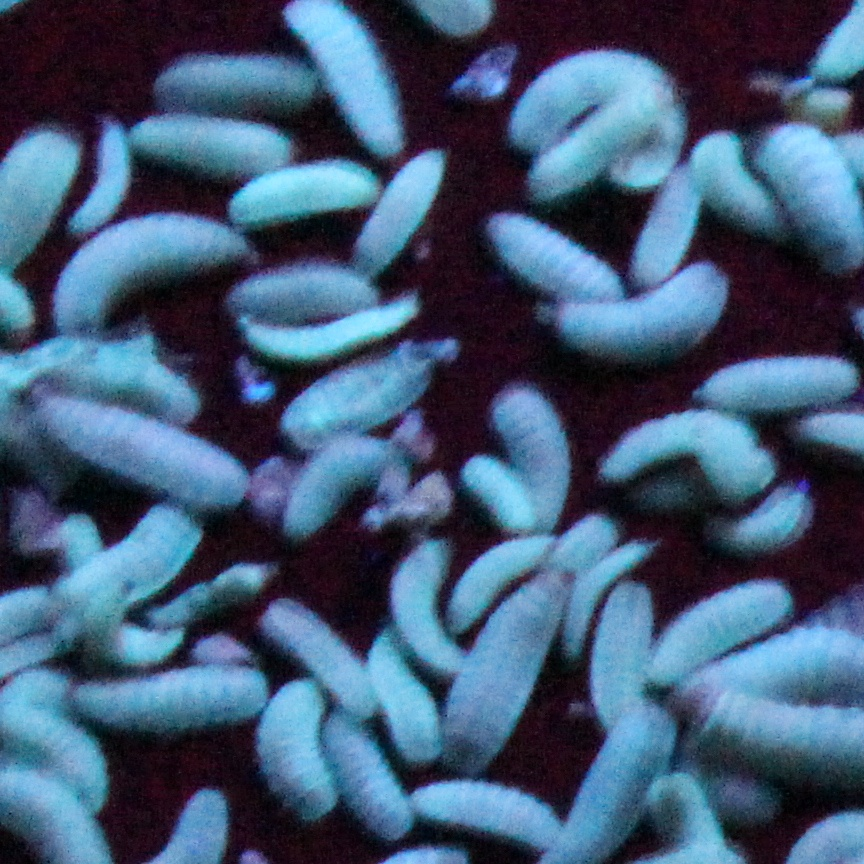larve: (445, 577, 572, 765), (42, 396, 241, 510), (59, 223, 223, 320), (299, 5, 395, 151), (533, 92, 660, 199), (292, 355, 443, 442), (56, 511, 194, 603), (557, 280, 722, 355), (651, 573, 792, 660), (494, 383, 572, 524), (782, 134, 864, 267), (495, 213, 611, 302), (416, 779, 559, 851), (267, 603, 367, 702), (284, 445, 398, 530), (89, 669, 255, 726), (362, 155, 444, 267), (563, 538, 643, 652), (608, 422, 754, 484), (327, 720, 398, 835), (694, 131, 767, 236), (376, 644, 439, 756), (162, 60, 302, 110), (699, 357, 848, 402), (630, 180, 703, 271), (139, 122, 268, 171), (241, 169, 361, 219), (278, 690, 324, 816), (248, 313, 388, 352), (388, 555, 443, 640), (710, 497, 806, 545), (606, 590, 644, 711), (238, 279, 366, 313), (87, 130, 126, 223), (468, 469, 525, 530)
